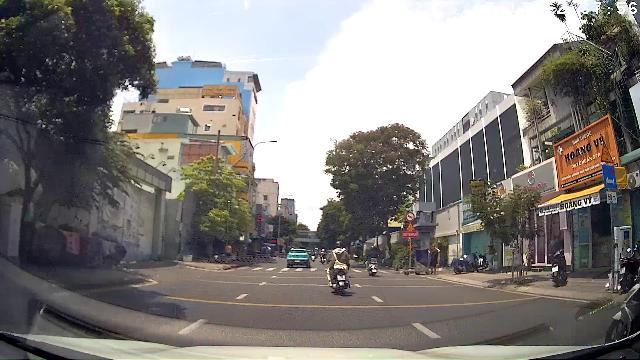128-cam-su-dung-coi: (405, 212, 415, 221)
